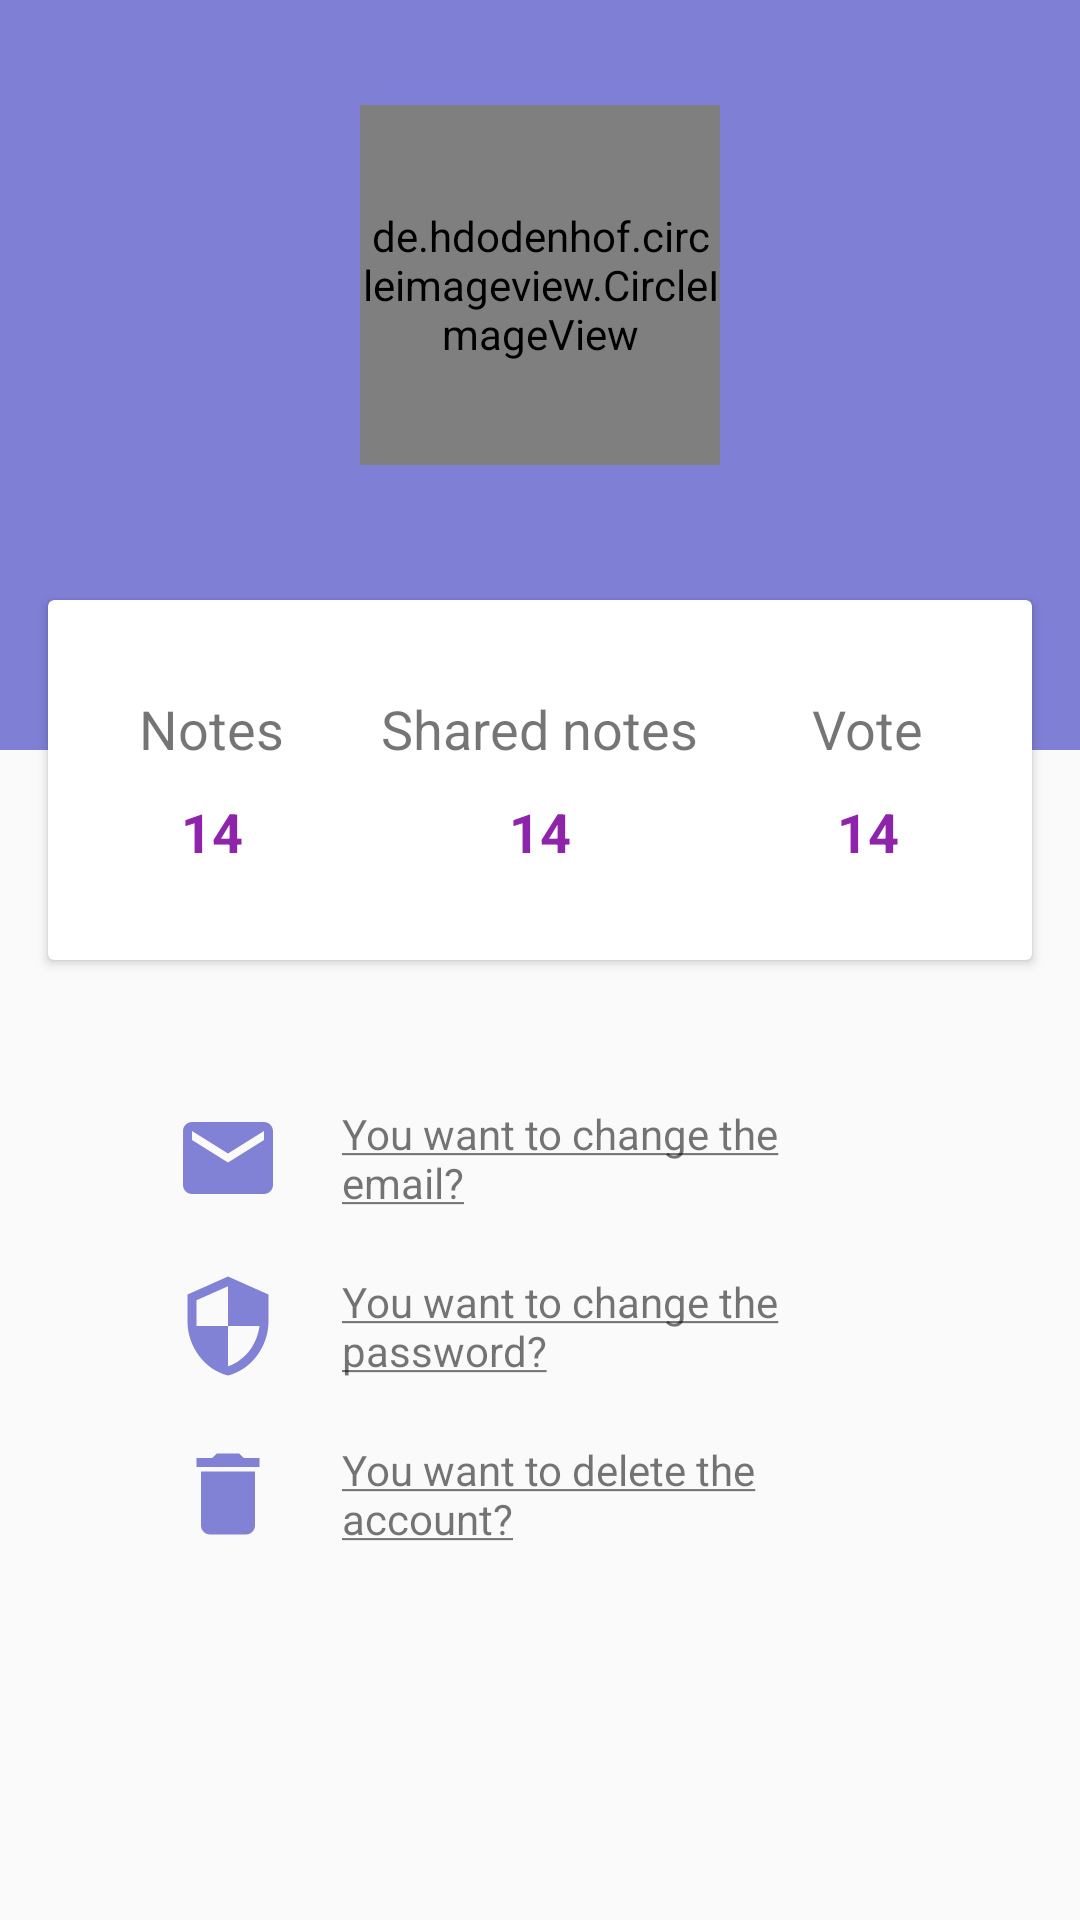

Locate icon controls on the screen. Image size 1080w x 1920h, boxes as (x1, y1, x2, y2).
security: (187, 1276, 269, 1376)
